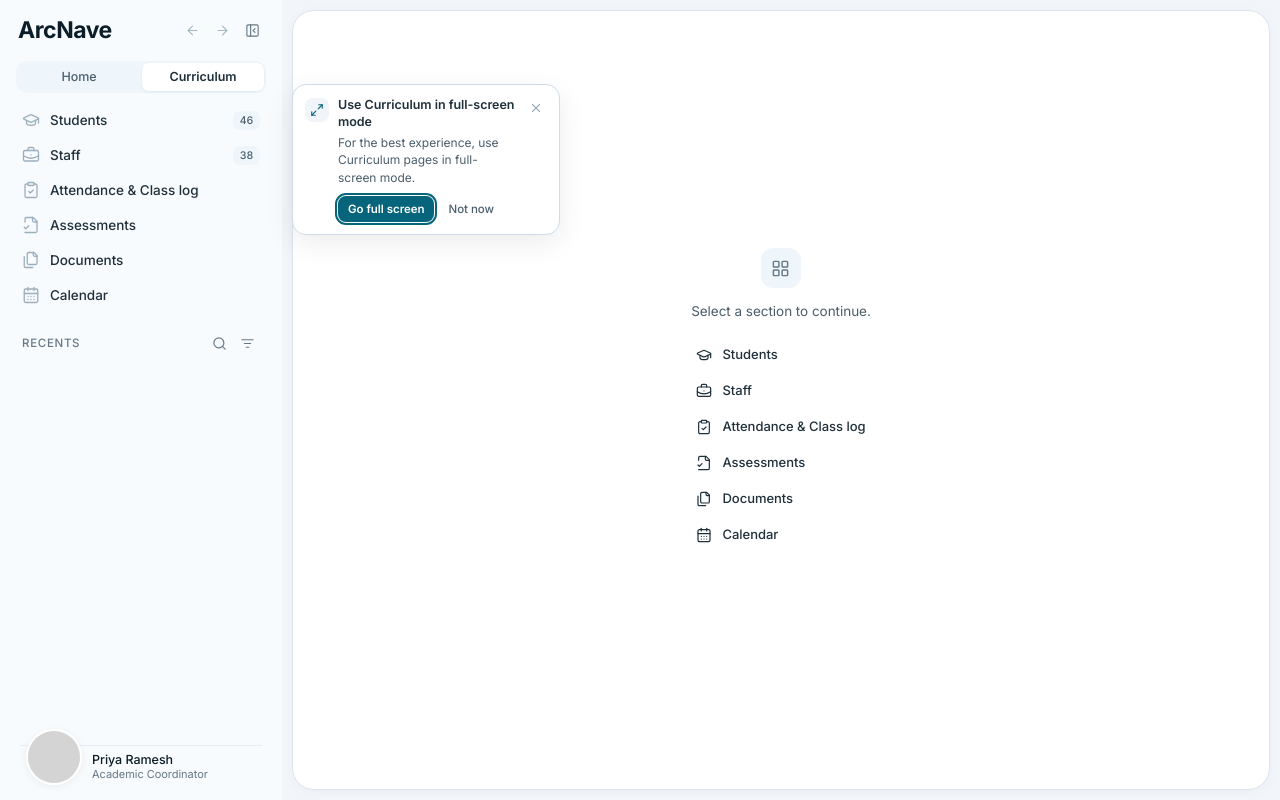
Test case: The timetable page shows both, and decides only what it may › states why a revision cannot be decided instead of hiding the reason
Click the button with aria-label "open profile": (141, 767) [20,746,262,788]
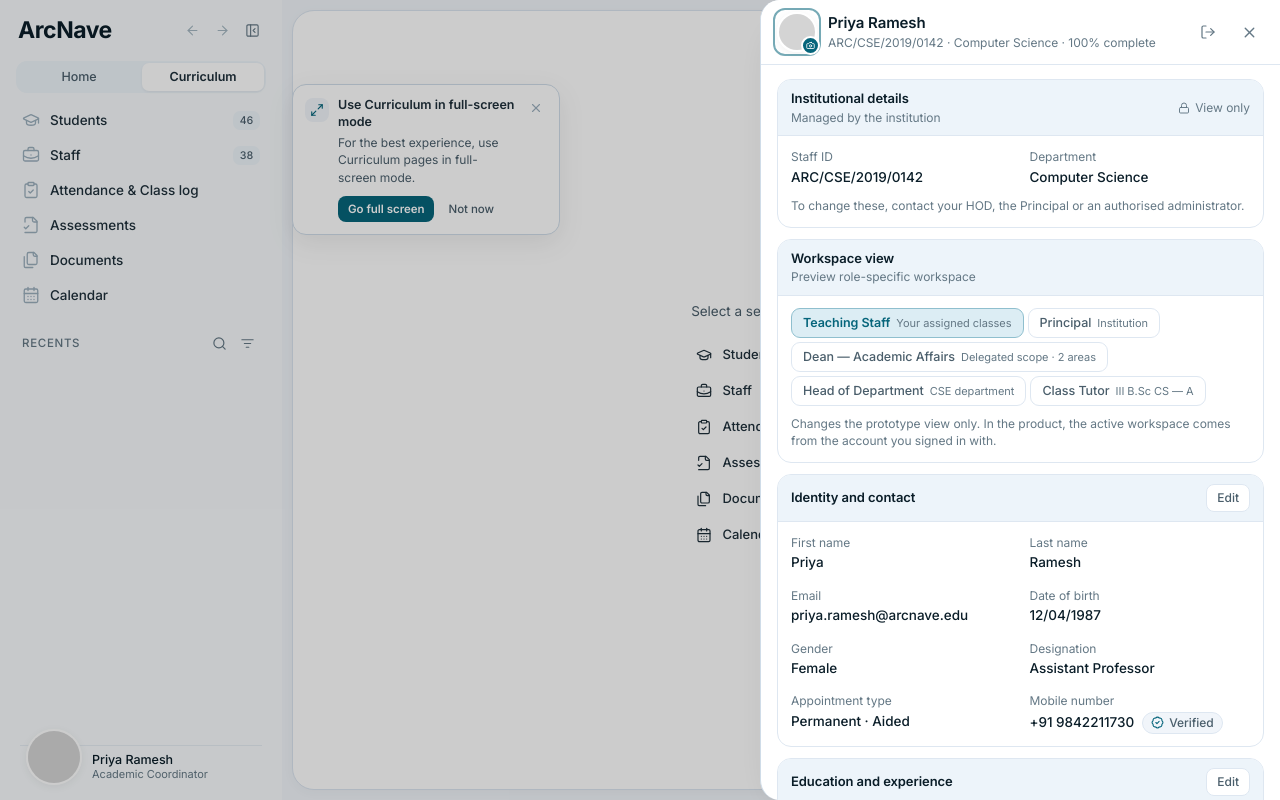
Click the radio button labelled "Principal": (1094, 323) [1028,308,1160,338]
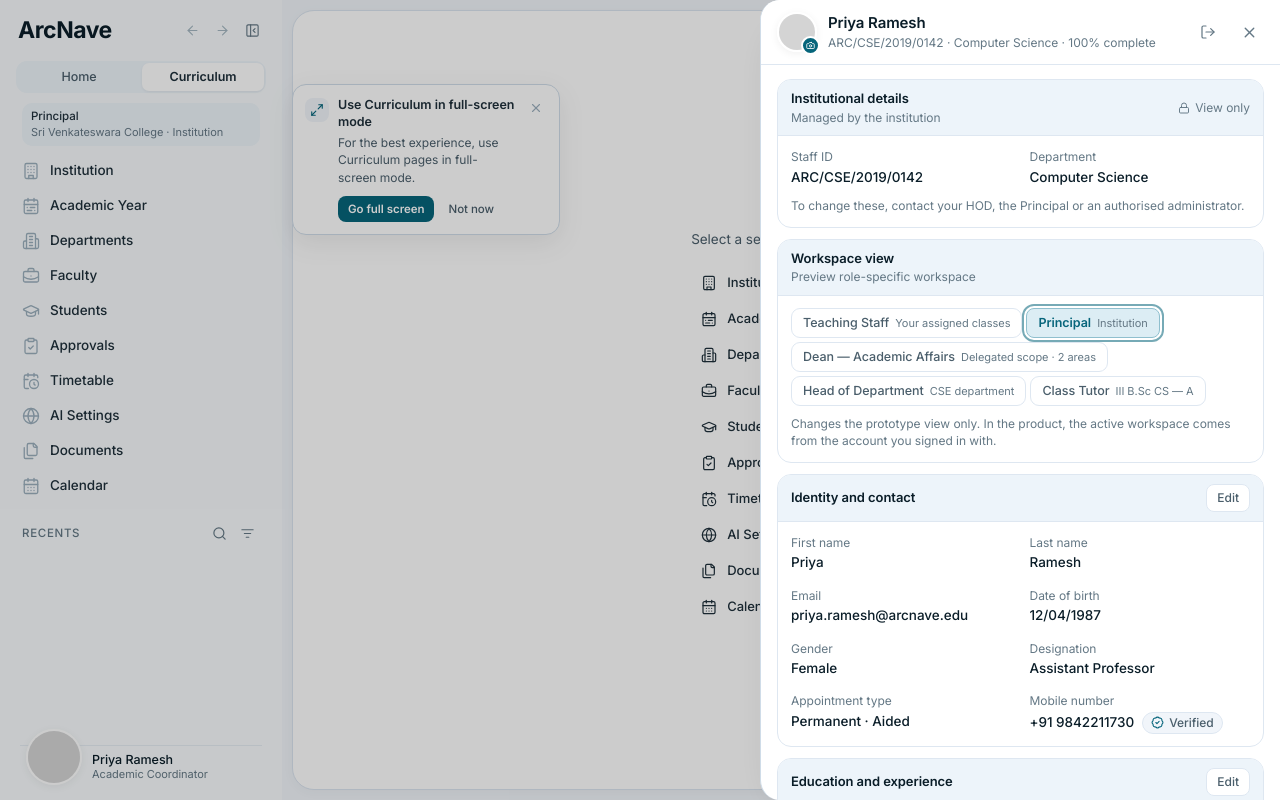
Click the button named "close profile": (1249, 32) [1234,17,1264,47]
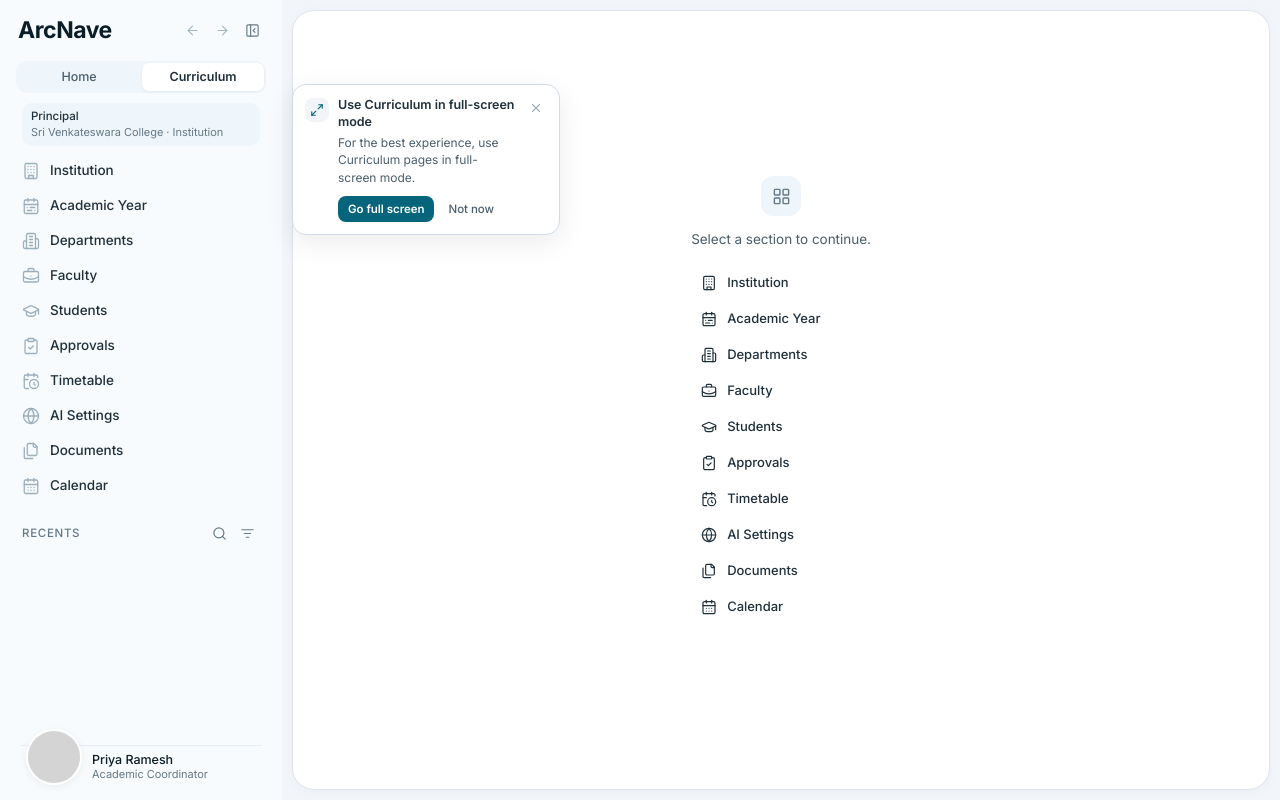
Click the link "Timetable" below "Sri Venkateswara College": (68, 381) [22,372,114,390]
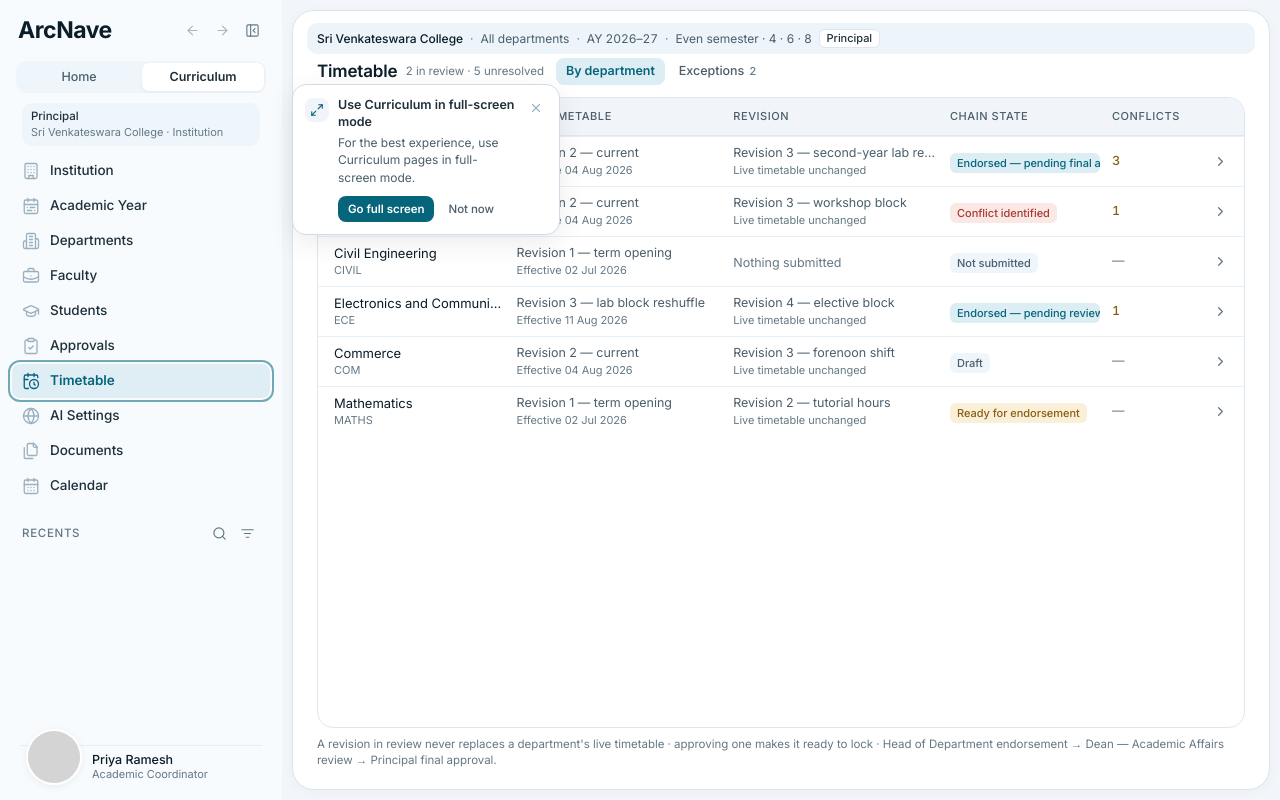
Click the button with aria-label "Electronics and Communication — open timetable decision": (781, 311) [318,286,1244,336]
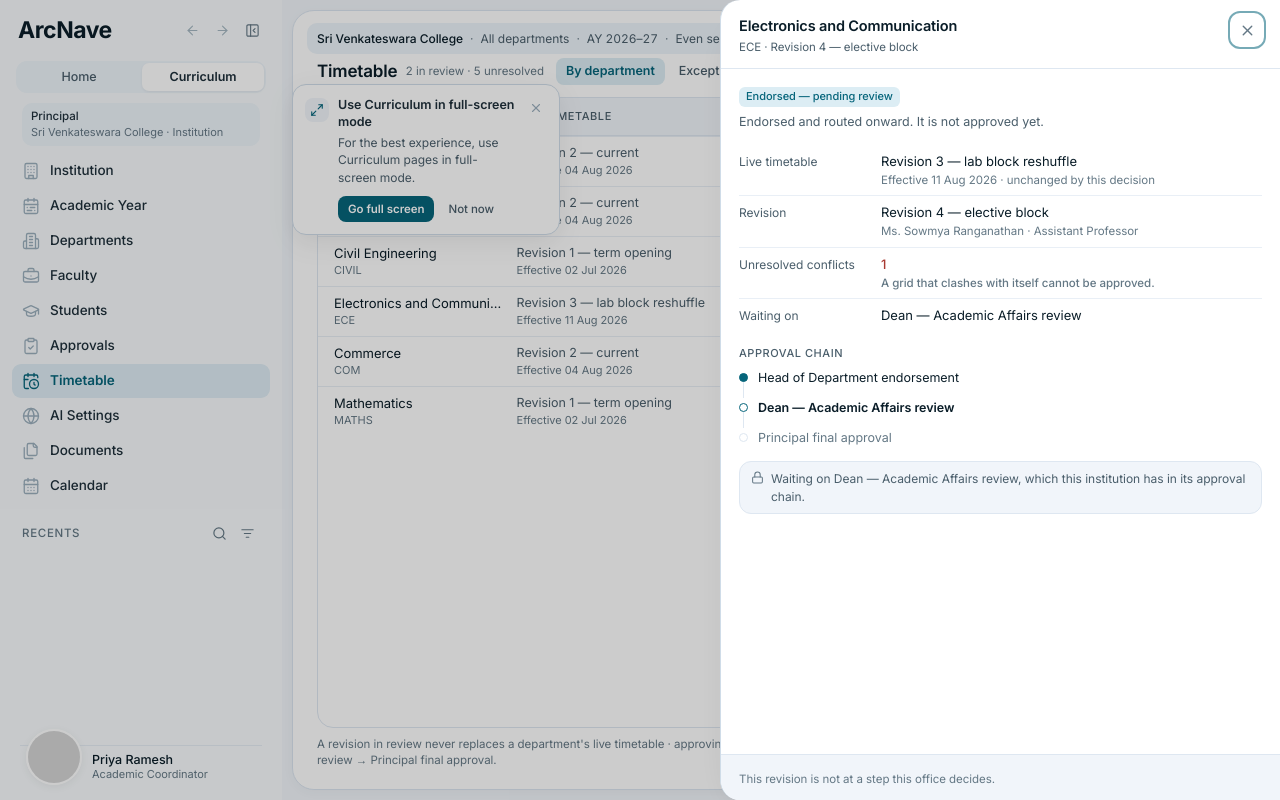
expect the text "Dean — Academic Affairs review" below "Unresolved conflicts" is shown: met, box [881,307,1082,323]
